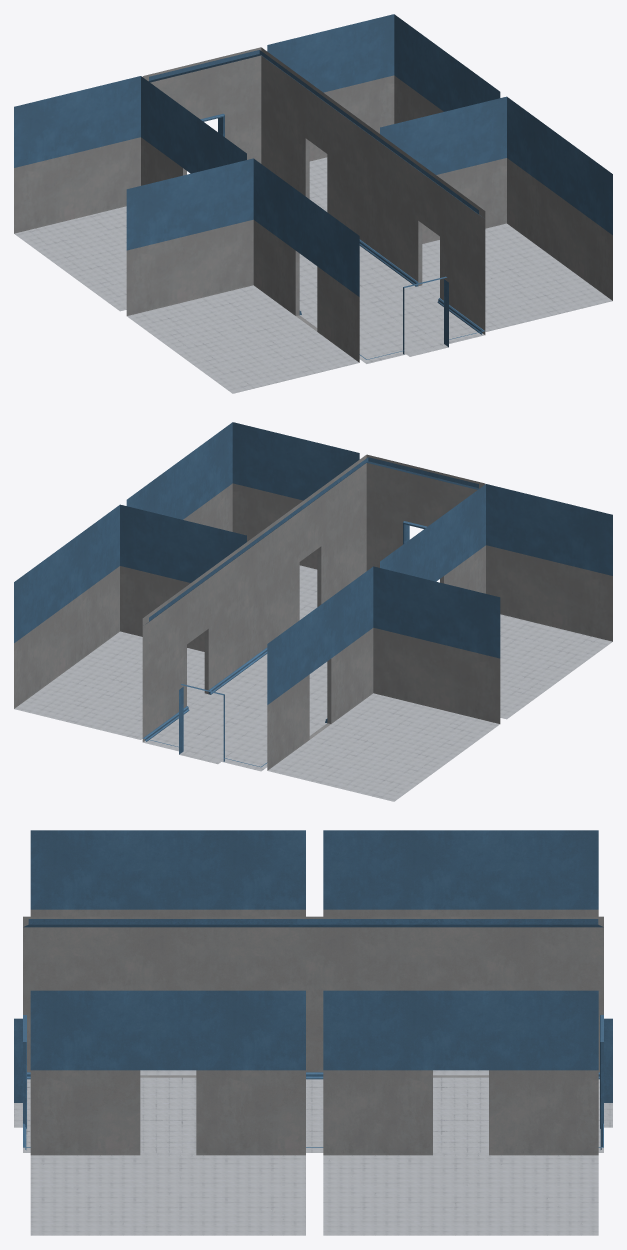
File: PZ_room2_offices.glb
3 views of the same model, one above another, from view 1: azimuth 30°, elevation 25°; view 2: azimuth 150°, elevation 25°; view 3: azimuth 270°, elevation 25° (orthographic). The views are drawn at different scales.
Visible parts, largest first — view 1: PZ_HallwayI; view 2: PZ_HallwayI; view 3: PZ_HallwayI.
Part boxes in pixels (bbox=[...]): PZ_HallwayI: bbox=[14, 14, 612, 393]; PZ_HallwayI: bbox=[14, 422, 612, 801]; PZ_HallwayI: bbox=[14, 830, 612, 1235].
Bounding box in the file's own units: 19.48 × 6.21 × 20.48.
Materials: 3 (3 with a texture image).
